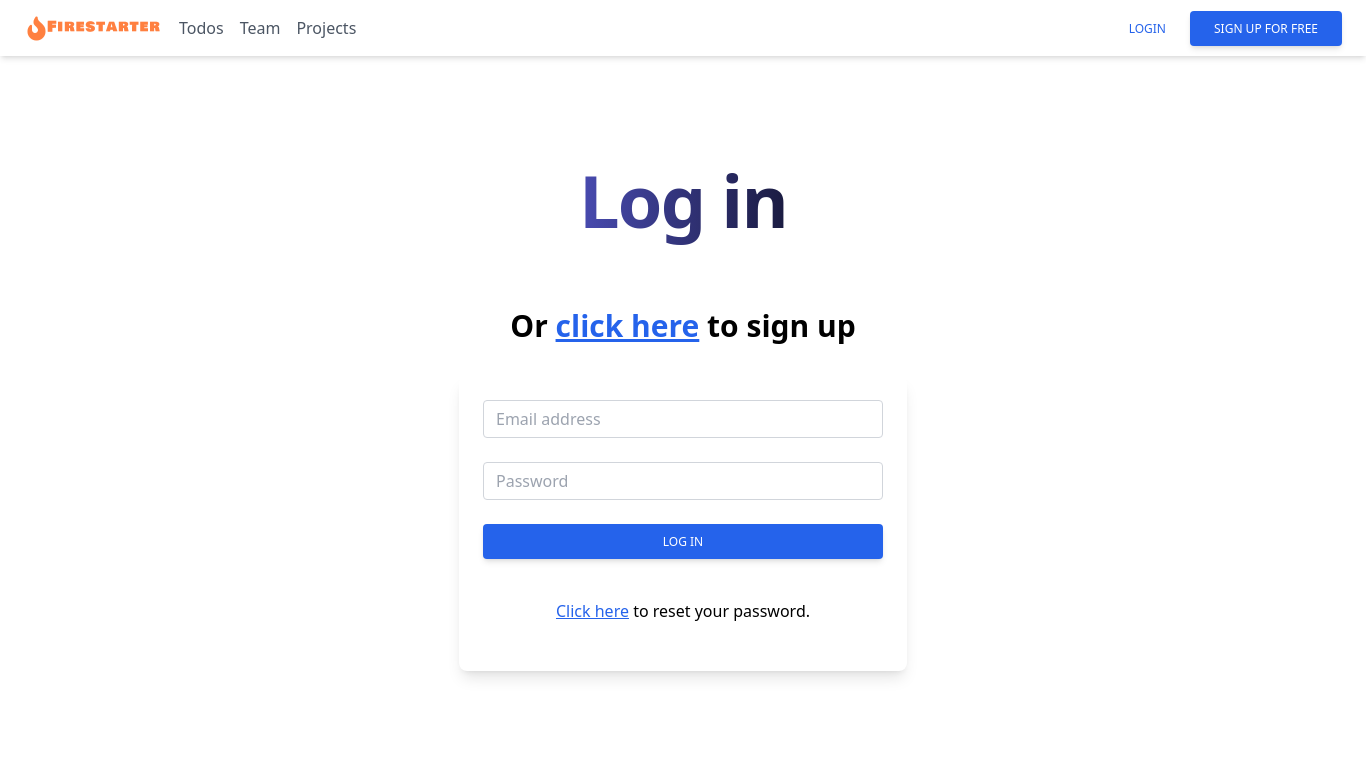
Scenario: Login › validates the email format
Step 1. Type "me@them.com" into the field with placeholder "Email address" → (683, 419), box left=483, top=400, right=883, bottom=438
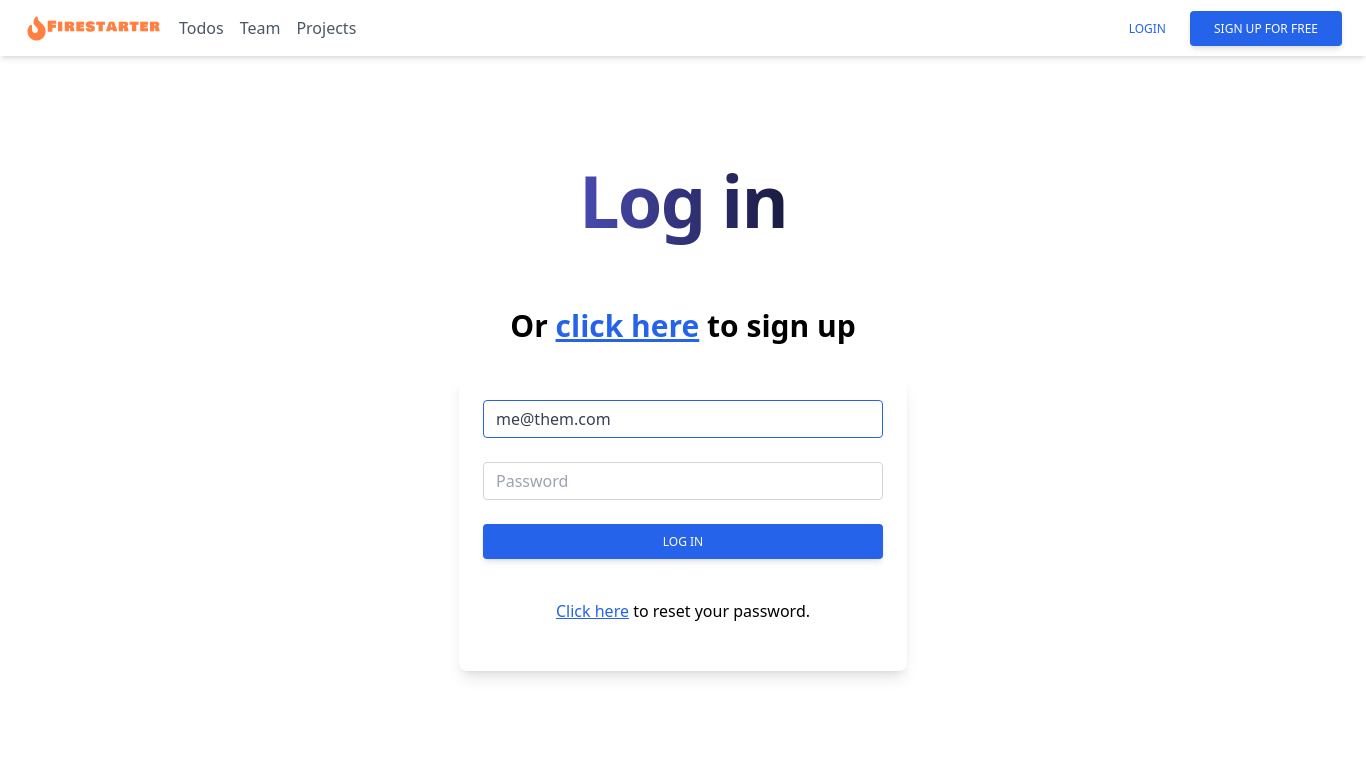
Step 2. Type "password123" into the password field with placeholder "Password" → (683, 481), box left=483, top=462, right=883, bottom=500
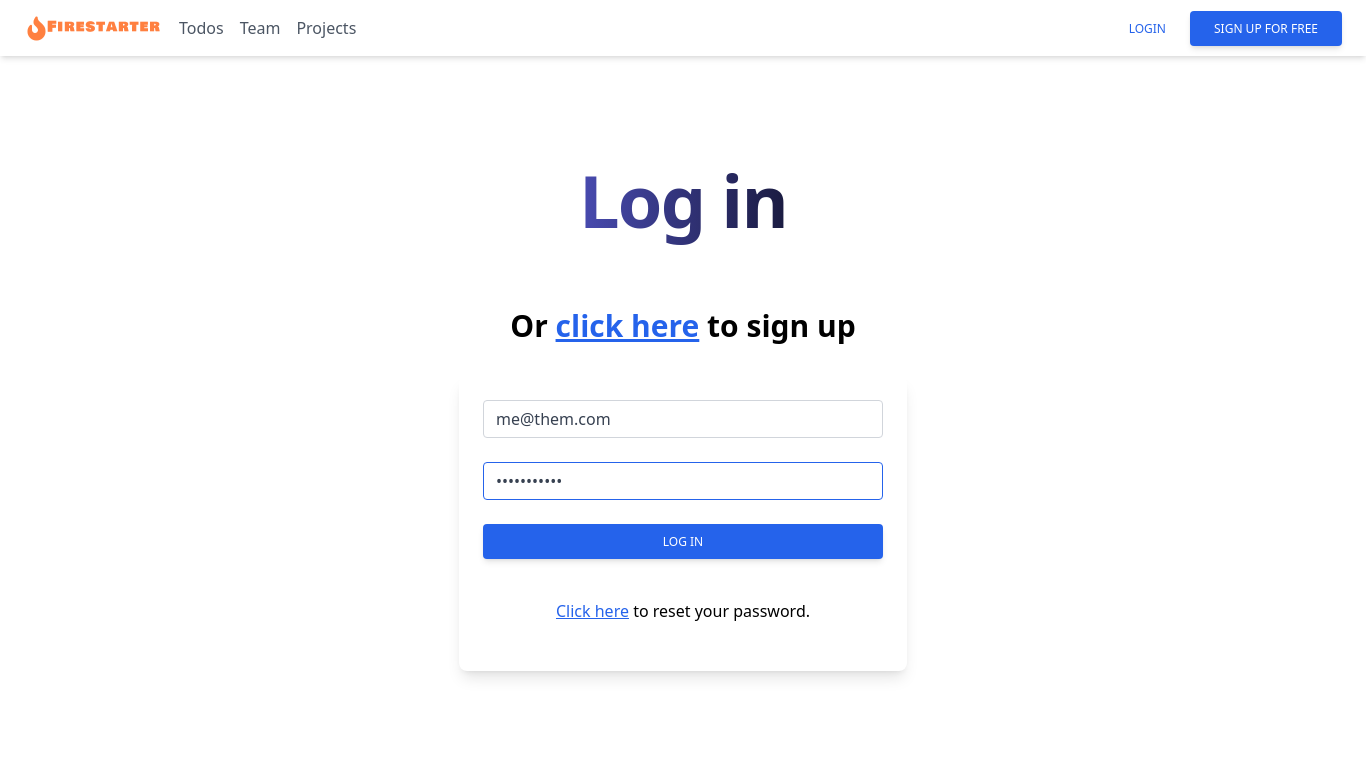
Step 3. Replace the text in the field with placeholder "Email address" with "methem" → (683, 419), box left=483, top=400, right=883, bottom=438
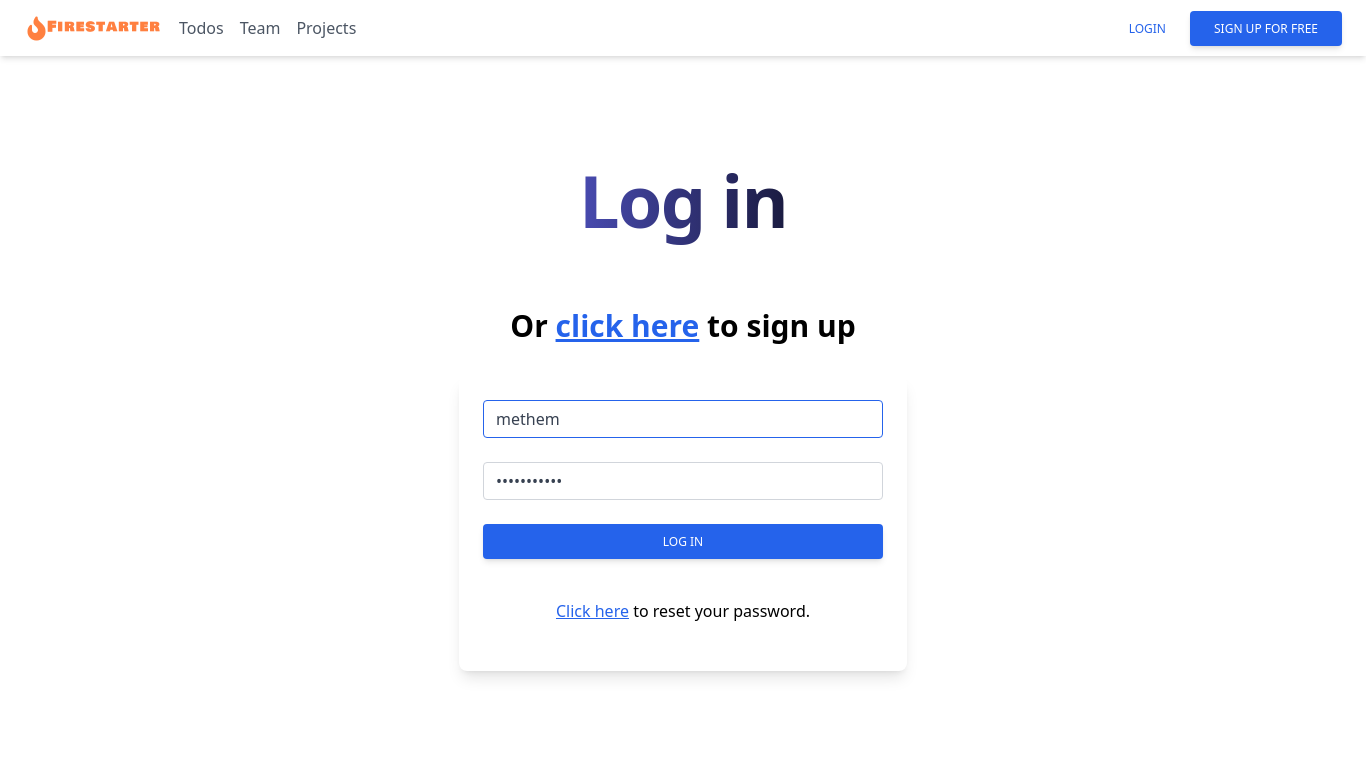
Step 4. Click the button "Log in" → (683, 542), box left=483, top=524, right=883, bottom=559
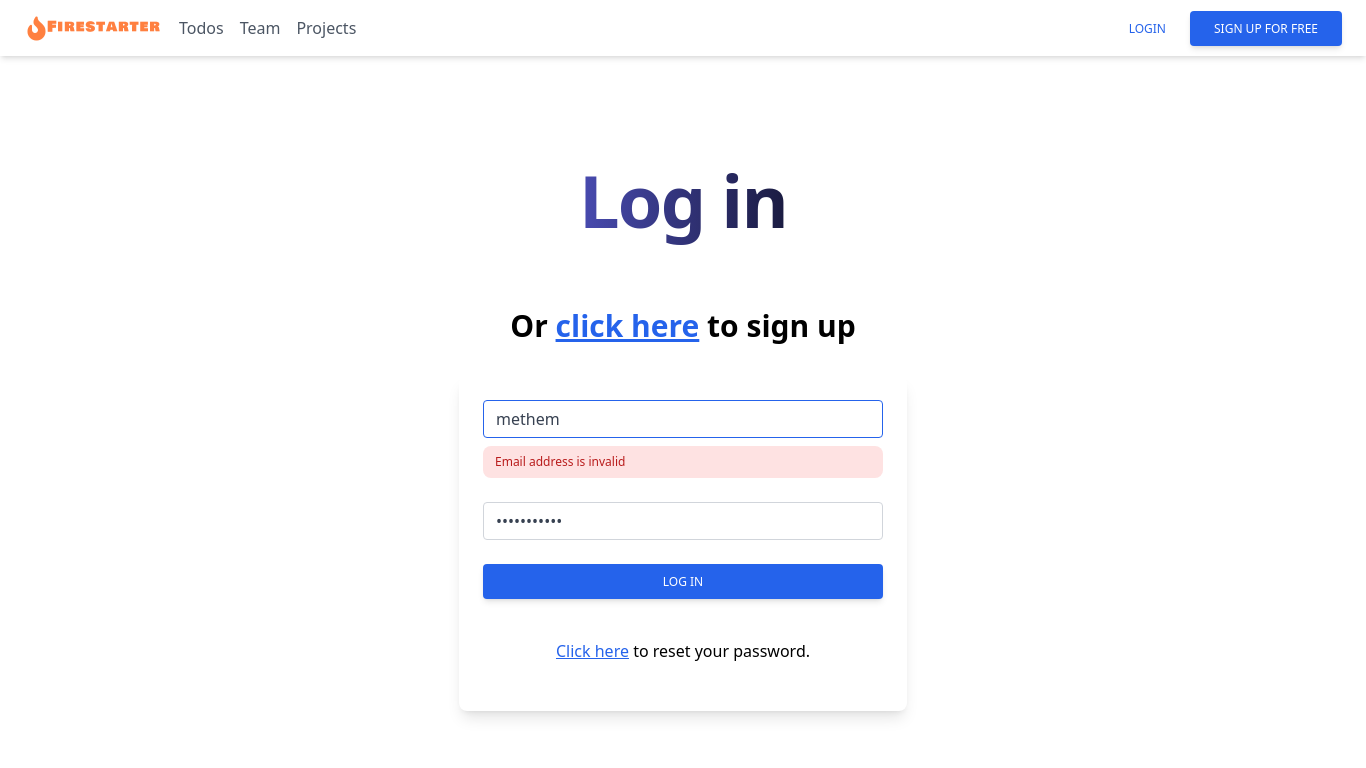
Now the number of messages is 1, box left=483, top=446, right=883, bottom=478
Now the message reads "Email address is invalid", box left=495, top=453, right=625, bottom=470
